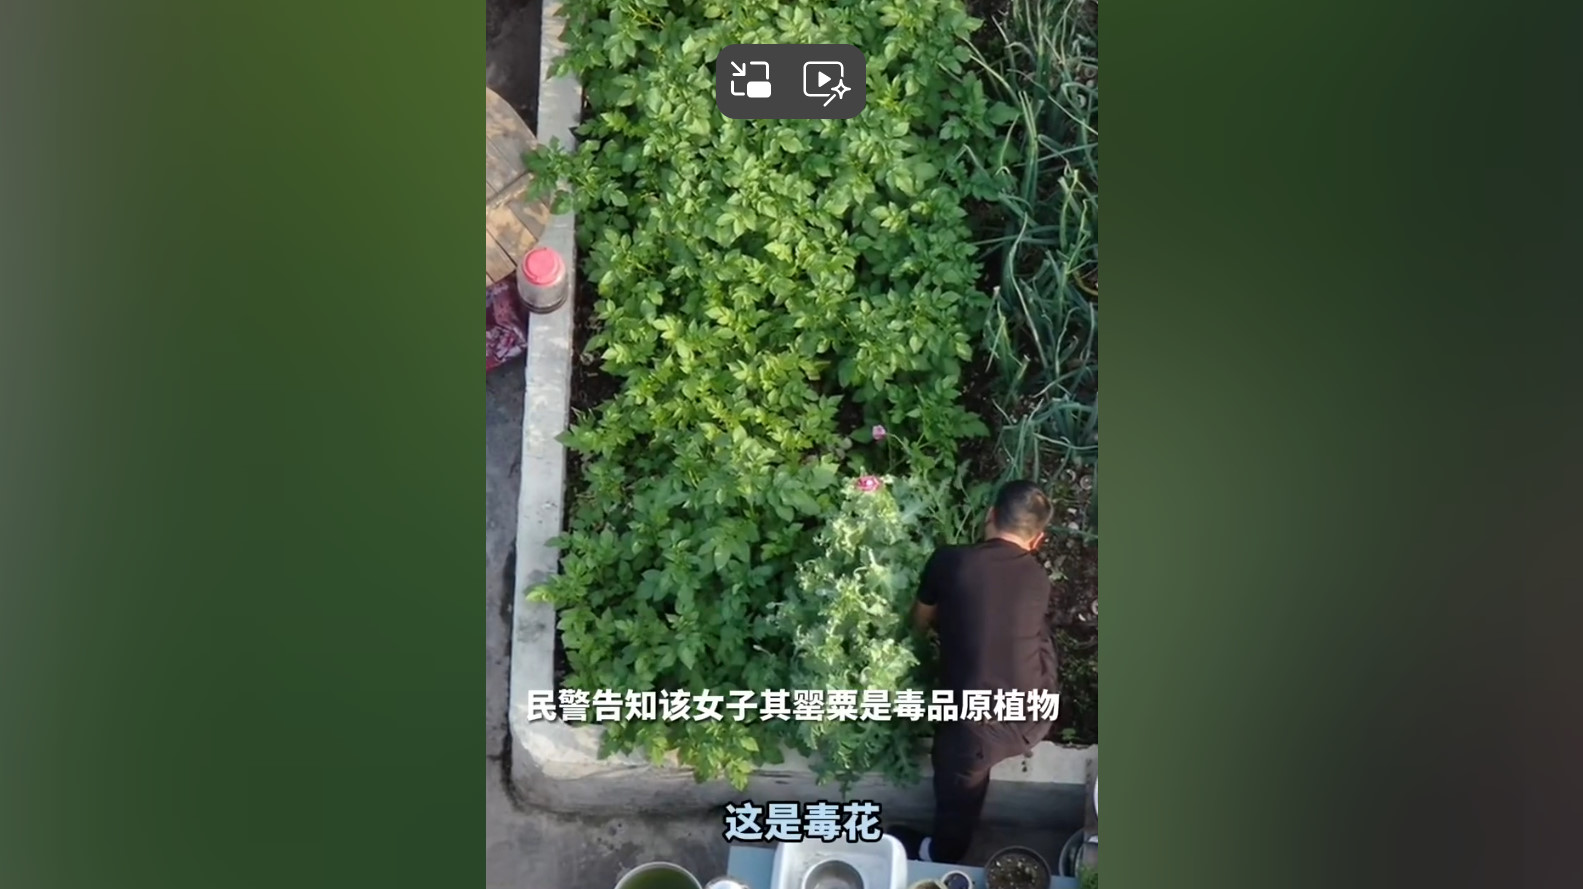Poppy: (774, 417, 956, 763)
